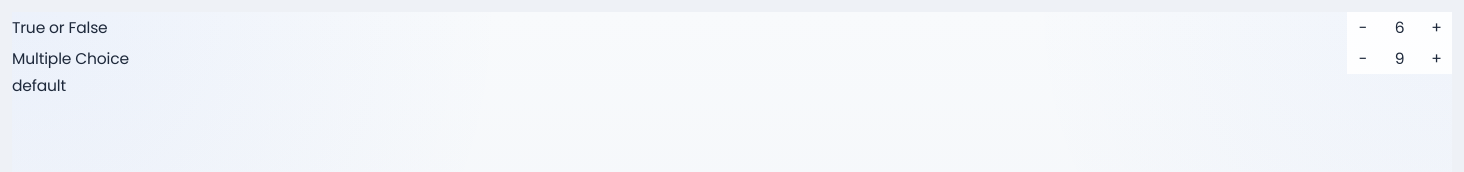
Test case: TypeSplit › goes back to the default when it lands on the LOTS count
Click the button named "One fewer, Multiple Choice" at (1363, 58), box [1347, 43, 1378, 74]
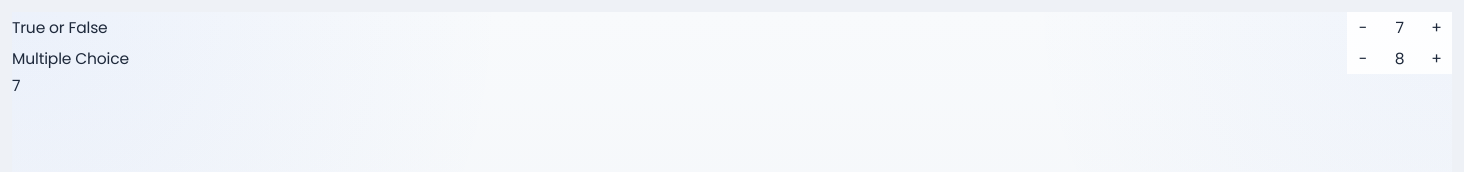
Check: the text with test id "saved" reads "7", box [12, 75, 20, 96]
Click the button named "One more, Multiple Choice" at (1436, 58), box [1421, 43, 1452, 74]
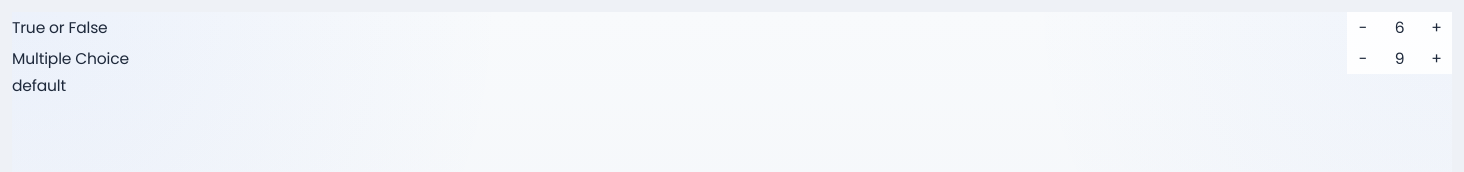
Check: the text with test id "saved" reads "default", box [12, 75, 66, 96]
